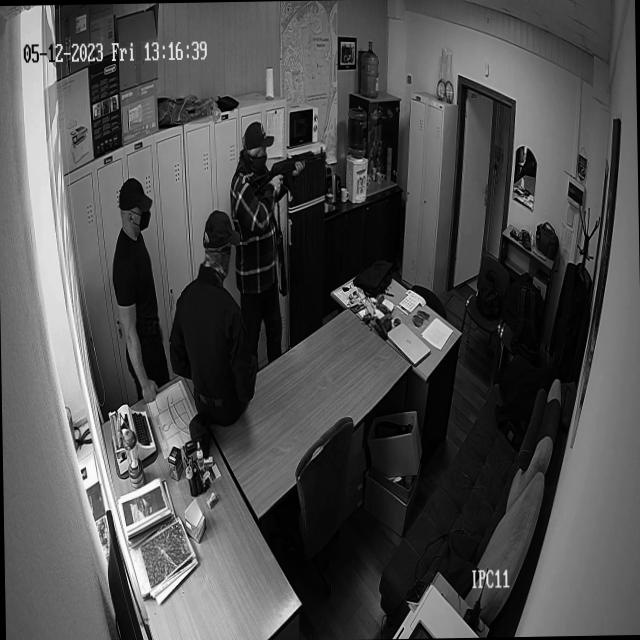gun: (248, 146, 326, 202), (508, 226, 520, 240)
person: (166, 212, 256, 432), (110, 176, 168, 404)
person with a gun: (230, 122, 328, 370)
